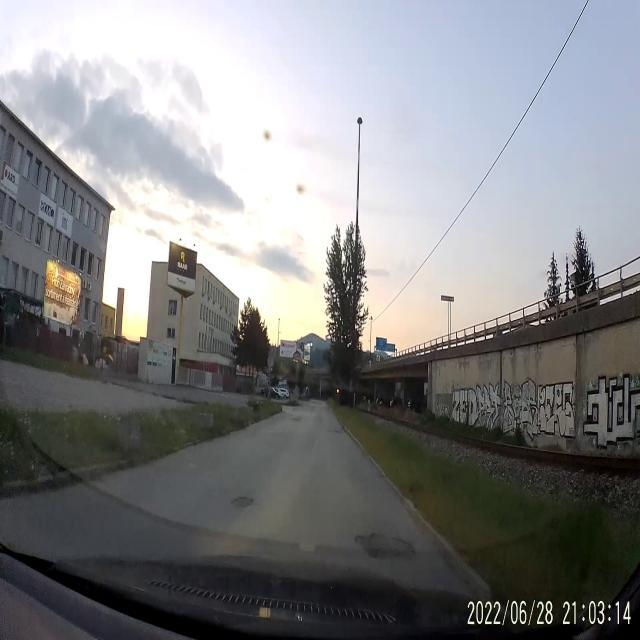Pothole: (351, 526, 418, 566), (230, 491, 255, 511), (326, 426, 344, 436), (292, 416, 302, 422)
